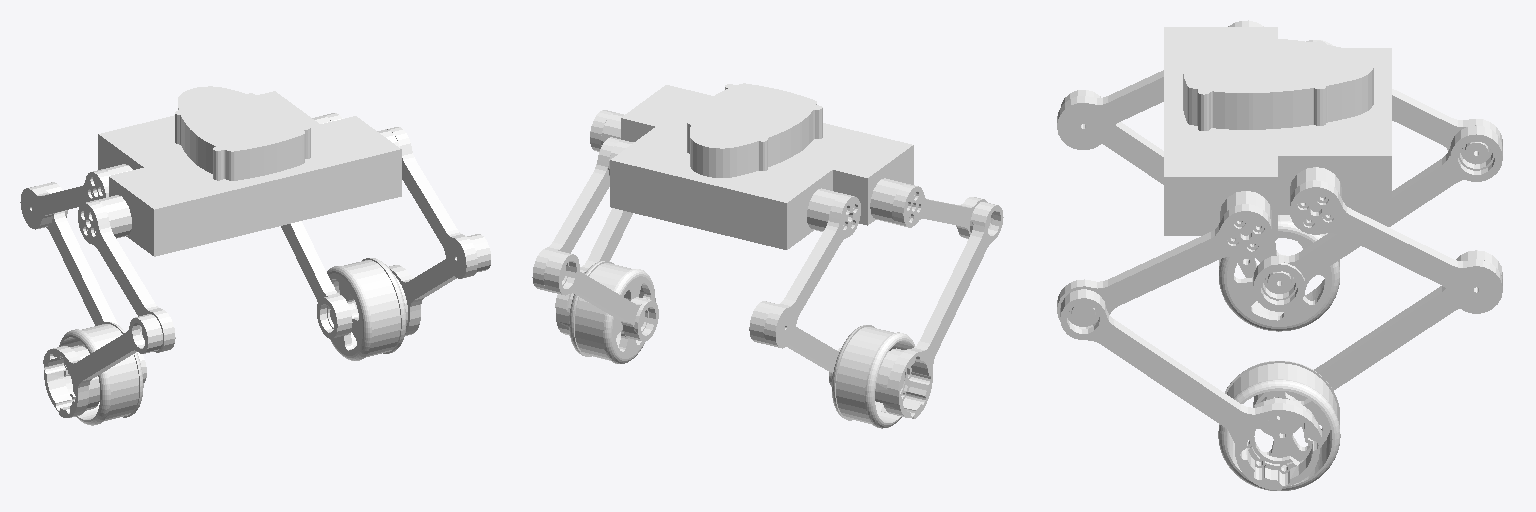
The robot description file, URDF, robot "wheel_robot":
<?xml version="1.0" encoding="utf-8"?>
<!-- This URDF was automatically created by SolidWorks to URDF Exporter! Originally created by [author] ([email redacted]) 
     Commit Version: 1.6.0-4-g7f85cfe  Build Version: 1.6.7995.38578
     For more information, please see http://wiki.ros.org/sw_urdf_exporter -->
<robot
  name="wheel_robot">
  <link
    name="Base_Link">
    <inertial>
      <origin
        xyz="-2.52600510667862E-17 -0.00310352890664976 0.135598576859636"
        rpy="0 0 0" />
      <mass
        value="0.695133805348164" />
      <inertia
        ixx="0.000818867000559321"
        ixy="-2.37169225231204E-20"
        ixz="-1.43069158747172E-20"
        iyy="0.00143805437749357"
        iyz="6.23157258035672E-06"
        izz="0.0020301888186965" />
    </inertial>
    <visual>
      <origin
        xyz="0 0 0"
        rpy="0 0 0" />
      <geometry>
        <mesh
          filename="package://wheel_robot/meshes/Base_Link.STL" />
      </geometry>
      <material
        name="">
        <color
          rgba="1 1 1 1" />
      </material>
    </visual>
    <collision>
      <origin
        xyz="0 0 0"
        rpy="0 0 0" />
      <geometry>
        <mesh
          filename="package://wheel_robot/meshes/Base_Link.STL" />
      </geometry>
    </collision>
  </link>
  <link
    name="Lidar_Link">
    <inertial>
      <origin
        xyz="-1.94068105504237E-08 3.60377493124897E-09 0.0100000000000013"
        rpy="0 0 0" />
      <mass
        value="0.101371452726668" />
      <inertia
        ixx="6.47099388433364E-05"
        ixy="-8.5390941368277E-09"
        ixz="-2.86512239355843E-15"
        iyy="3.20318224576523E-05"
        iyz="-2.88168827796699E-15"
        izz="8.99836620293208E-05" />
    </inertial>
    <visual>
      <origin
        xyz="0 0 0"
        rpy="0 0 0" />
      <geometry>
        <mesh
          filename="package://wheel_robot/meshes/Lidar_Link.STL" />
      </geometry>
      <material
        name="">
        <color
          rgba="1 1 1 1" />
      </material>
    </visual>
    <collision>
      <origin
        xyz="0 0 0"
        rpy="0 0 0" />
      <geometry>
        <mesh
          filename="package://wheel_robot/meshes/Lidar_Link.STL" />
      </geometry>
    </collision>
  </link>
  <joint
    name="Lidar"
    type="continuous">
    <origin
      xyz="0 -0.00458766018912035 0.162584590632503"
      rpy="0 0 0" />
    <parent
      link="Base_Link" />
    <child
      link="Lidar_Link" />
    <axis
      xyz="0 0 1" />
  </joint>
  <link
    name="IMU_Link">
    <inertial>
      <origin
        xyz="-5.13573863673237E-19 0 -0.0025"
        rpy="0 0 0" />
      <mass
        value="0.002" />
      <inertia
        ixx="7.08333333333334E-08"
        ixy="0"
        ixz="0"
        iyy="7.08333333333334E-08"
        iyz="0"
        izz="1.33333333333333E-07" />
    </inertial>
    <visual>
      <origin
        xyz="0 0 0"
        rpy="0 0 0" />
      <geometry>
        <mesh
          filename="package://wheel_robot/meshes/IMU_Link.STL" />
      </geometry>
      <material
        name="">
        <color
          rgba="1 1 1 1" />
      </material>
    </visual>
    <collision>
      <origin
        xyz="0 0 0"
        rpy="0 0 0" />
      <geometry>
        <mesh
          filename="package://wheel_robot/meshes/IMU_Link.STL" />
      </geometry>
    </collision>
  </link>
  <joint
    name="IMU"
    type="fixed">
    <origin
      xyz="0 0 0.130584590632503"
      rpy="0 0 0" />
    <parent
      link="Base_Link" />
    <child
      link="IMU_Link" />
    <axis
      xyz="0 0 0" />
  </joint>
  <link
    name="Left_Wheel_Link">
    <inertial>
      <origin
        xyz="-0.00578924855678133 6.93889390390723E-18 0"
        rpy="0 0 0" />
      <mass
        value="0.0233505330565559" />
      <inertia
        ixx="1.45047484731412E-05"
        ixy="-7.75051954589431E-22"
        ixz="-1.89723971305832E-21"
        iyy="9.33516609851917E-06"
        iyz="9.69099844845907E-23"
        izz="9.33516609851918E-06" />
    </inertial>
    <visual>
      <origin
        xyz="0 0 0"
        rpy="0 0 0" />
      <geometry>
        <mesh
          filename="package://wheel_robot/meshes/Left_Wheel_Link.STL" />
      </geometry>
      <material
        name="">
        <color
          rgba="1 1 1 1" />
      </material>
    </visual>
    <collision>
      <origin
        xyz="0 0 0"
        rpy="0 0 0" />
      <geometry>
        <mesh
          filename="package://wheel_robot/meshes/Left_Wheel_Link.STL" />
      </geometry>
    </collision>
  </link>
  <joint
    name="Left_Wheel"
    type="continuous">
    <origin
      xyz="-0.083 0.000623525076349621 0.03"
      rpy="0 0 0" />
    <parent
      link="Base_Link" />
    <child
      link="Left_Wheel_Link" />
    <axis
      xyz="-1 0 0" />
  </joint>
  <link
    name="Right_Wheel_Link">
    <inertial>
      <origin
        xyz="0.00578924855678131 5.96744875736022E-16 1.33226762955019E-15"
        rpy="0 0 0" />
      <mass
        value="0.0233505330565559" />
      <inertia
        ixx="1.45047484731412E-05"
        ixy="-1.25422649076138E-21"
        ixz="3.13610193493942E-21"
        iyy="9.33516609851917E-06"
        iyz="1.03437966247476E-21"
        izz="9.33516609851917E-06" />
    </inertial>
    <visual>
      <origin
        xyz="0 0 0"
        rpy="0 0 0" />
      <geometry>
        <mesh
          filename="package://wheel_robot/meshes/Right_Wheel_Link.STL" />
      </geometry>
      <material
        name="">
        <color
          rgba="1 1 1 1" />
      </material>
    </visual>
    <collision>
      <origin
        xyz="0 0 0"
        rpy="0 0 0" />
      <geometry>
        <mesh
          filename="package://wheel_robot/meshes/Right_Wheel_Link.STL" />
      </geometry>
    </collision>
  </link>
  <joint
    name="Right_Wheel"
    type="continuous">
    <origin
      xyz="0.083 0.000623525076348302 0.0299999999999984"
      rpy="0 0 0" />
    <parent
      link="Base_Link" />
    <child
      link="Right_Wheel_Link" />
    <axis
      xyz="1 0 0" />
  </joint>
</robot>

--- What the picture shows (computed from the rendered views, not written in the file) ---
The picture shows the robot from 3 angles, left to right: view 1: azimuth 30°, elevation 25°; view 2: azimuth 150°, elevation 25°; view 3: azimuth 270°, elevation 25°; orthographic projection.
Model wheel_robot with 5 links and 4 joints (3 continuous, 1 fixed), rooted at Base_Link, posed every joint at zero.
Visible links, largest first — view 1: Base_Link, Lidar_Link, Right_Wheel_Link, Left_Wheel_Link; view 2: Base_Link, Lidar_Link, Left_Wheel_Link, Right_Wheel_Link; view 3: Base_Link, Lidar_Link, Right_Wheel_Link, Left_Wheel_Link.
Boxes of the visible links, x1,y1,x2,y2 form: Base_Link: [20, 91, 490, 417]; Lidar_Link: [175, 86, 310, 180]; Right_Wheel_Link: [327, 258, 405, 360]; Left_Wheel_Link: [59, 322, 143, 425]; Base_Link: [532, 85, 1003, 418]; Lidar_Link: [687, 83, 822, 177]; Left_Wheel_Link: [832, 325, 914, 428]; Right_Wheel_Link: [569, 261, 655, 363]; Base_Link: [1057, 20, 1502, 490]; Lidar_Link: [1183, 36, 1373, 130]; Right_Wheel_Link: [1218, 361, 1340, 490]; Left_Wheel_Link: [1219, 215, 1339, 331].
Bounding box of the posed robot: 0.243 × 0.2196 × 0.1827 m (x, y, z).
5 mesh visuals loaded from 5 distinct referenced files (5 binary STL).